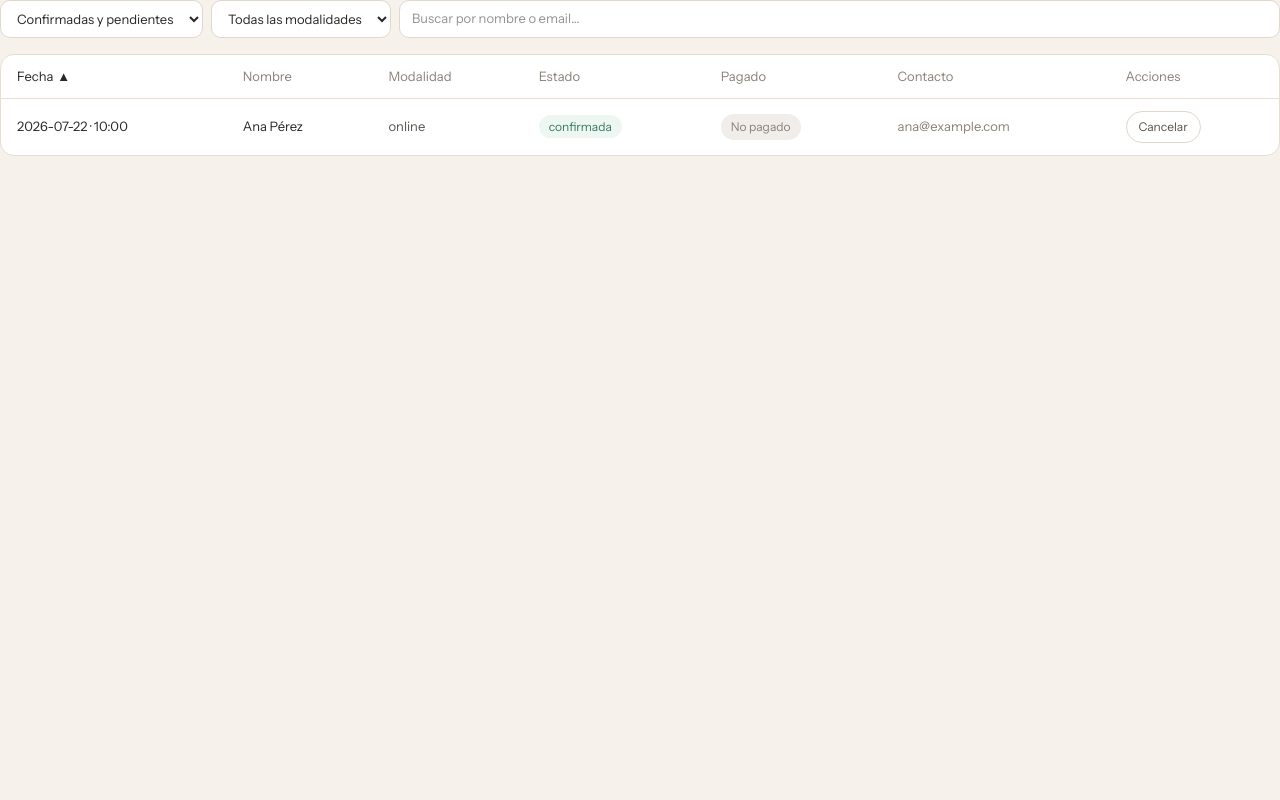
it: CitasTabla — detalle al clickear la fila › cerrar el modal lo oculta de nuevo
Click the text "Ana Pérez" at (52, 126), box [1,98,1279,155]
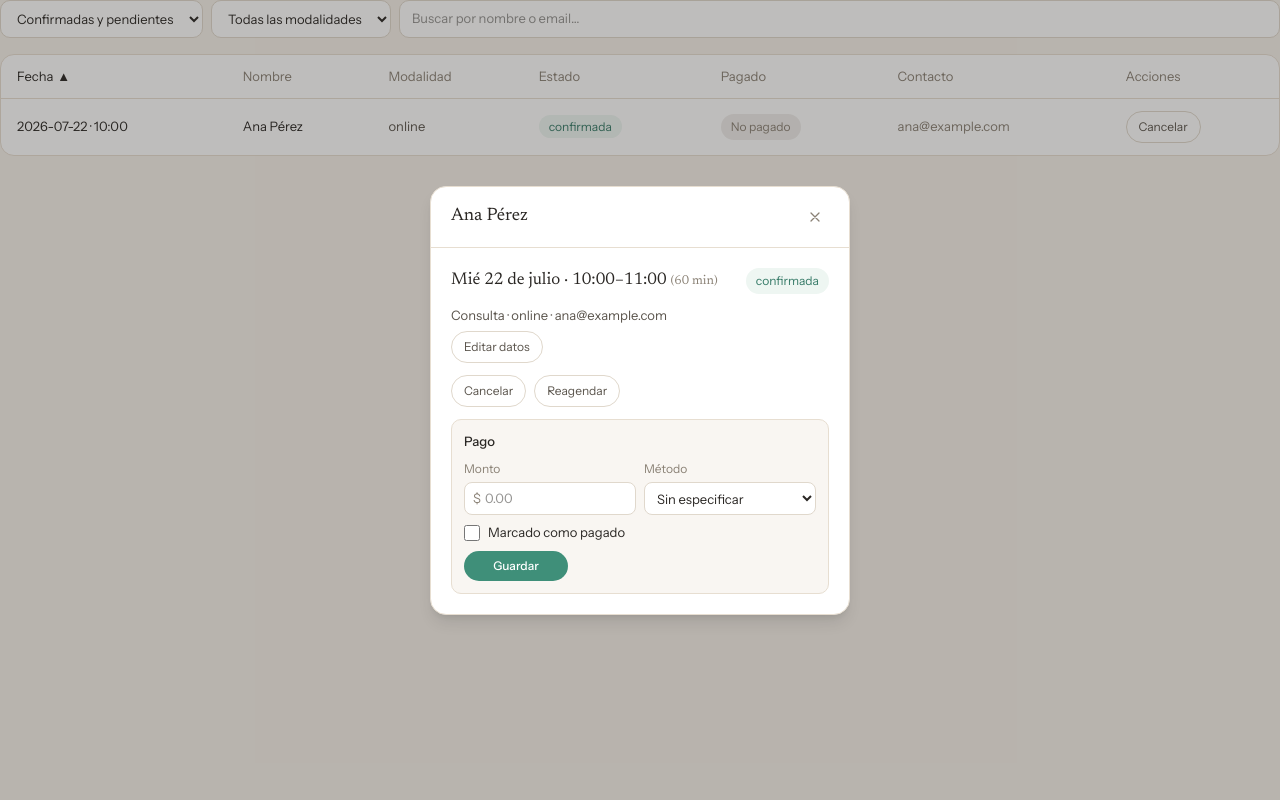
Check: the button "Reagendar" is shown, box [534,375,620,407]
Click the button named "Cerrar" at (815, 216), box [801,202,829,230]
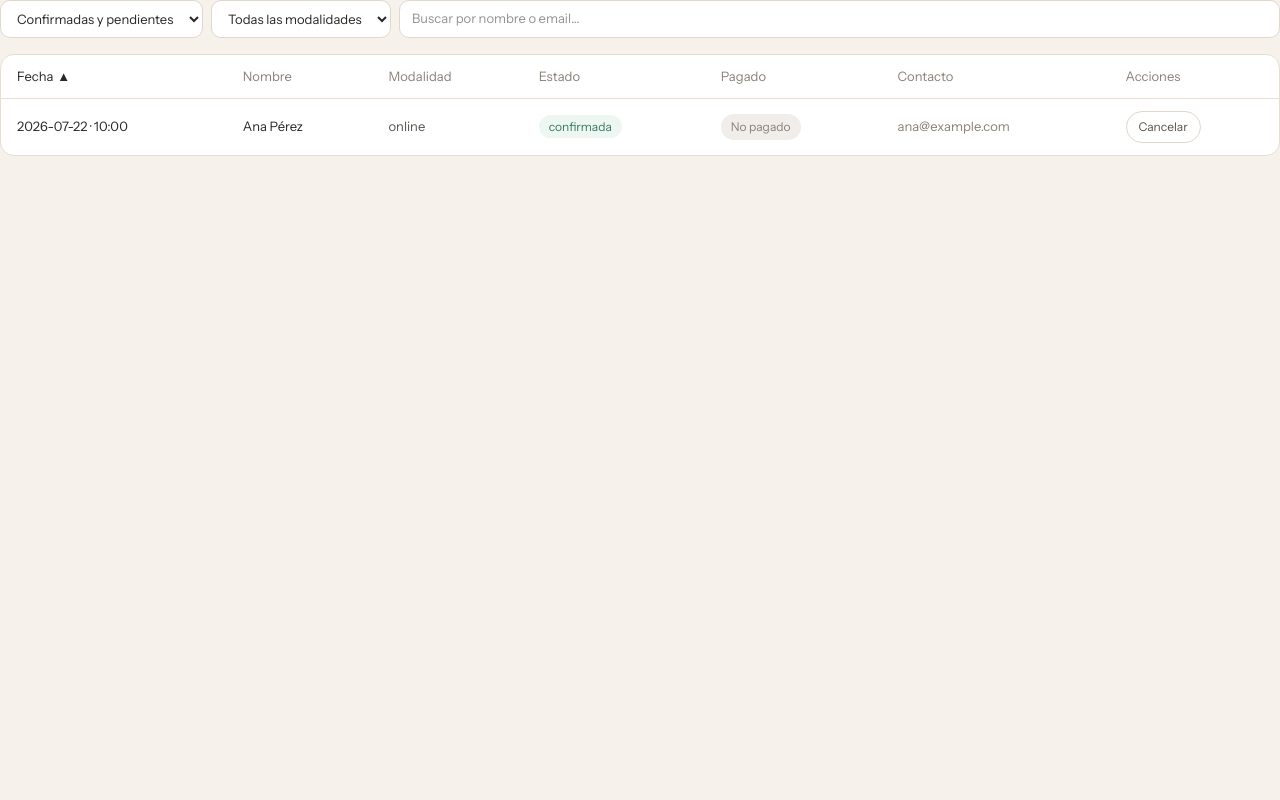
Check: the button "Reagendar" is gone
